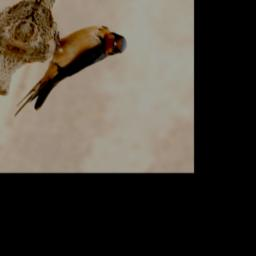Swallow: (7, 9, 133, 140)
